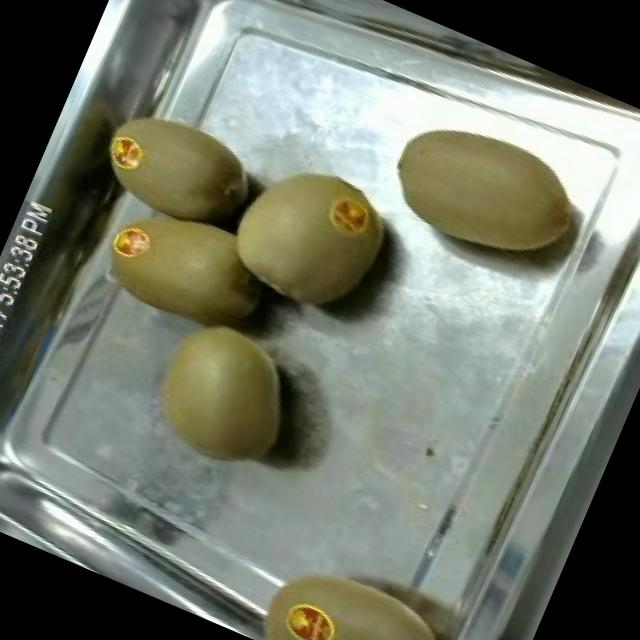Fruit: (202, 131, 416, 339), (371, 92, 598, 288), (74, 170, 294, 362), (120, 292, 324, 492), (80, 81, 282, 248), (256, 537, 471, 640)
